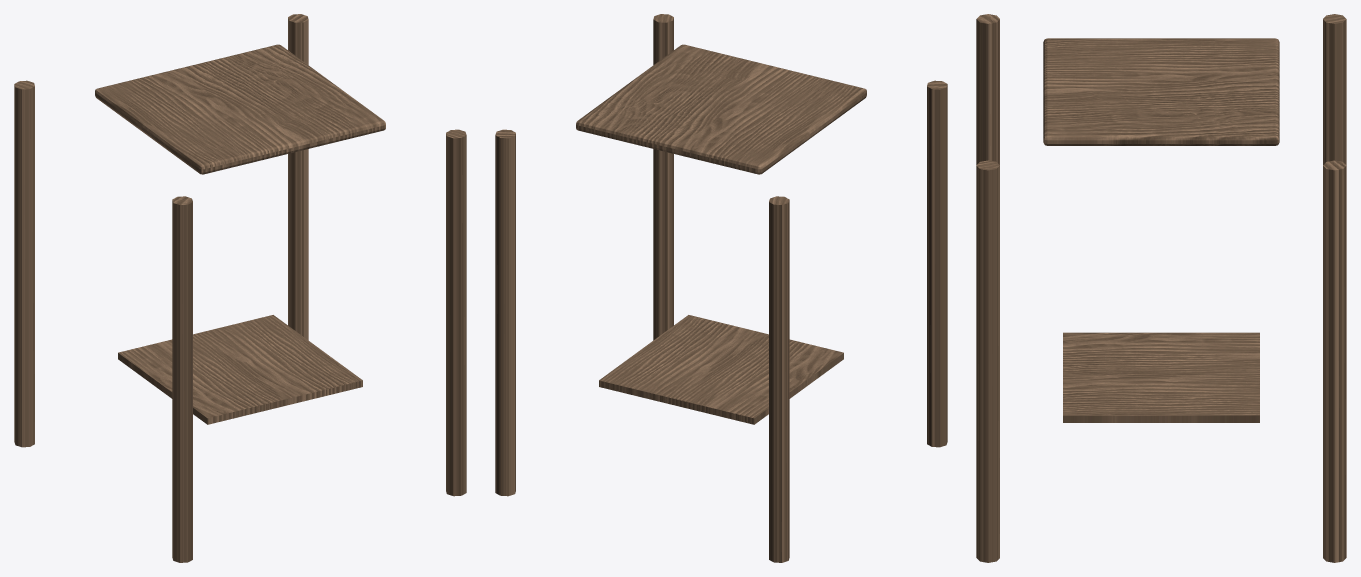
File: side_table.fbx
The picture shows the model from 3 angles, left to right: view 1: azimuth 30°, elevation 25°; view 2: azimuth 150°, elevation 25°; view 3: azimuth 270°, elevation 25°; orthographic projection. The views are drawn at different scales.
Visible parts, largest first — view 1: side_table; view 2: side_table; view 3: side_table.
Part boxes in pixels (<box>): side_table: <box>14,14,466,562</box>; side_table: <box>495,14,947,562</box>; side_table: <box>976,14,1346,562</box>.
Bounding box in the file's own units: 0.47 × 0.5575 × 0.47.
1 material, 1 textured.
